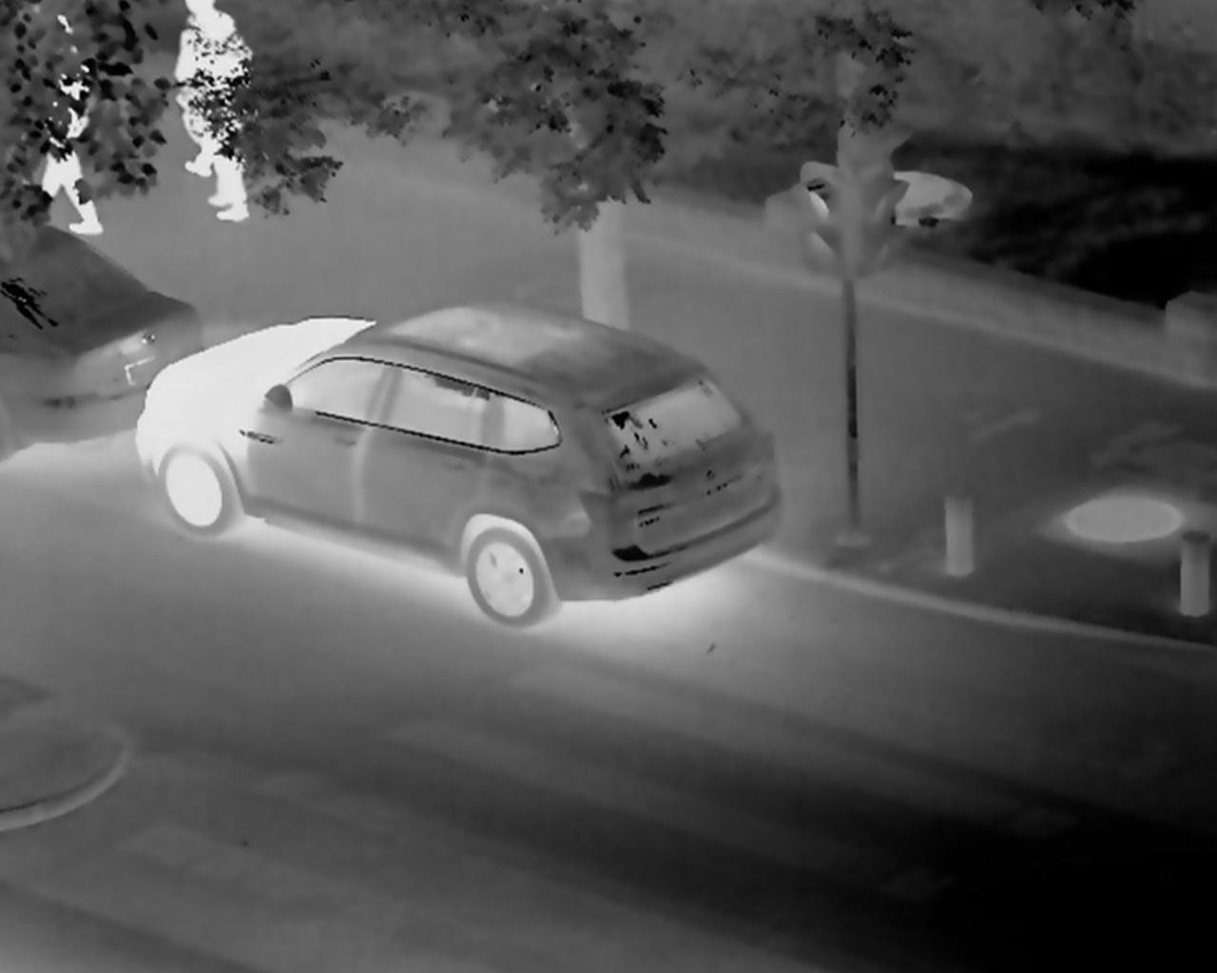person: (179, 10, 268, 204), (49, 70, 106, 231)
